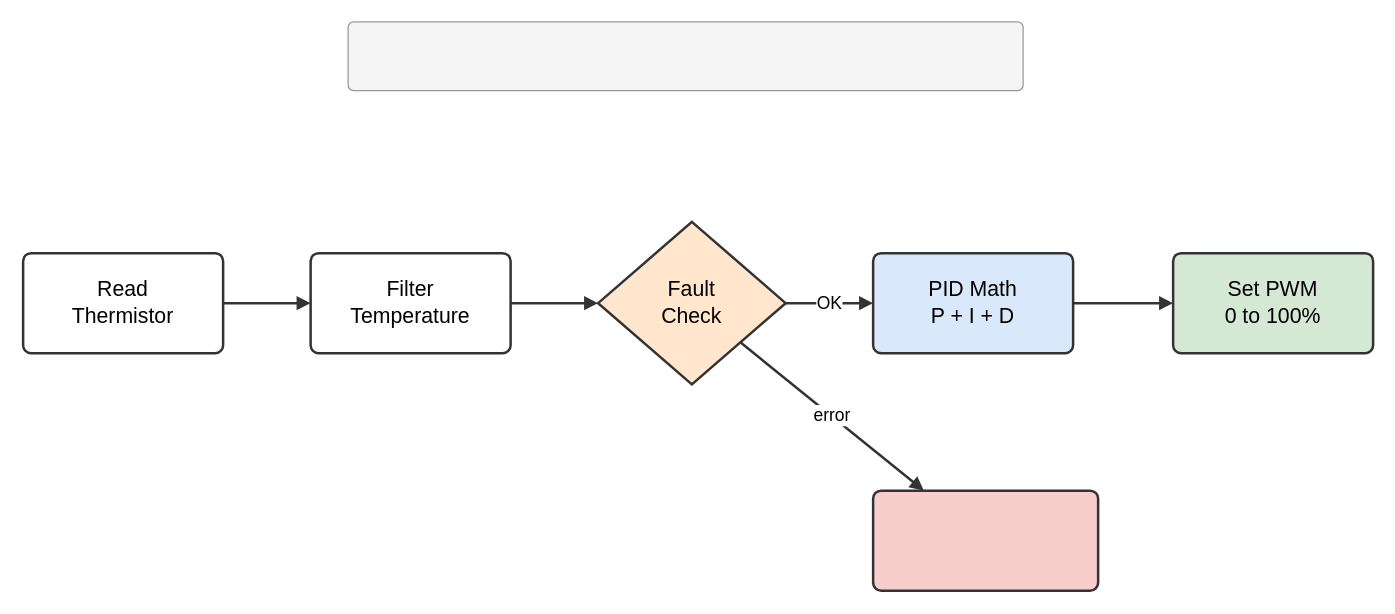
Some shapes in this 1395 by 614 pixel diagram are drawn without their labels. Each missing label, with the box of its shape:
Heater Fault PWM forced off: (871, 489, 1099, 591)
This is the shared loop used by both nozzle and bed tasks every 100 ms.: (347, 21, 1023, 91)
